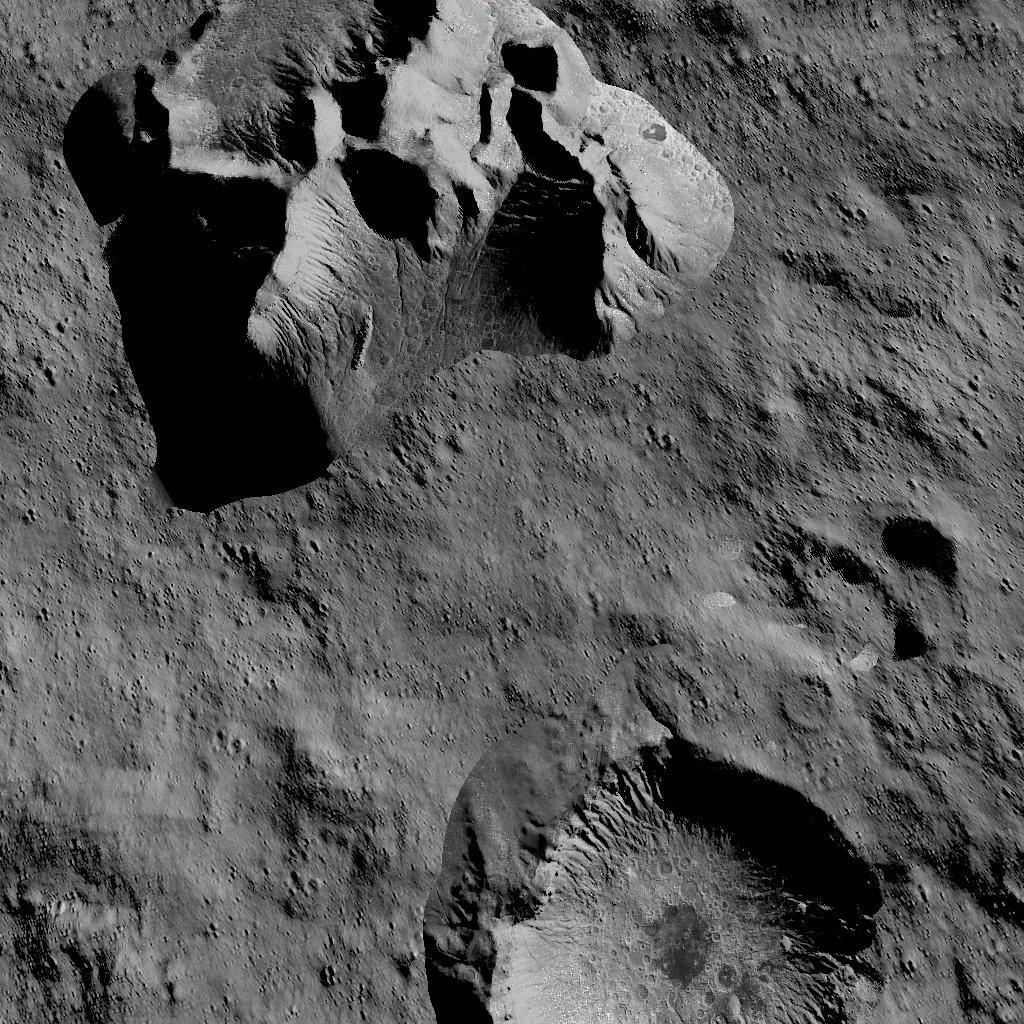Boulders: (74, 0, 736, 507)
Crater: (419, 726, 911, 1024), (897, 510, 1000, 660)
Plan surface: (127, 522, 397, 1024), (760, 4, 1024, 480), (441, 516, 778, 713)
